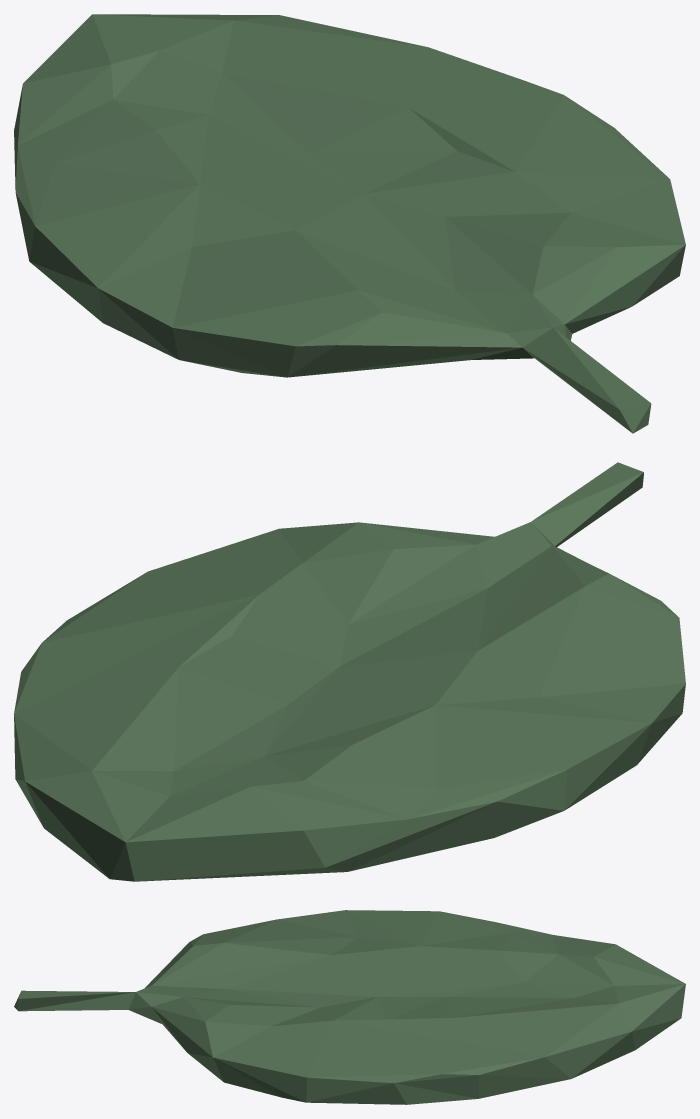
The model's file is Leaf_2.fbx.
3 views of the same model, one above another, from view 1: azimuth 30°, elevation 25°; view 2: azimuth 150°, elevation 25°; view 3: azimuth 270°, elevation 25° (orthographic). The views are drawn at different scales.
Visible parts, largest first — view 1: leaf2; view 2: leaf2; view 3: leaf2.
Part boxes in pixels (bbox=[...]): leaf2: bbox=[14, 14, 685, 433]; leaf2: bbox=[14, 462, 685, 881]; leaf2: bbox=[14, 910, 685, 1104].
Bounding box in the file's own units: 1.55 × 0.1925 × 2.57.
